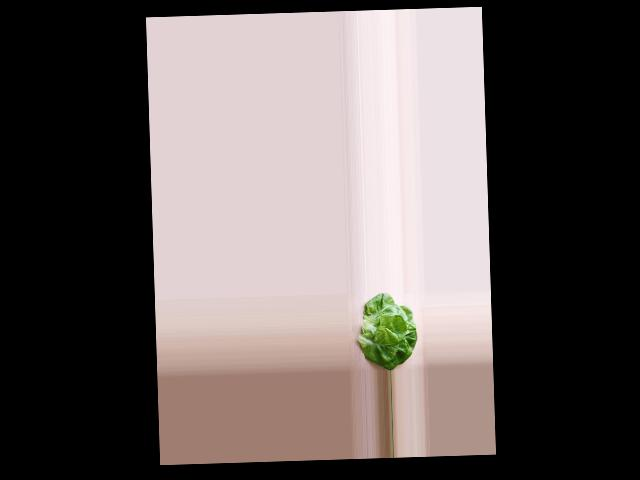lettuce: (358, 294, 418, 369)
